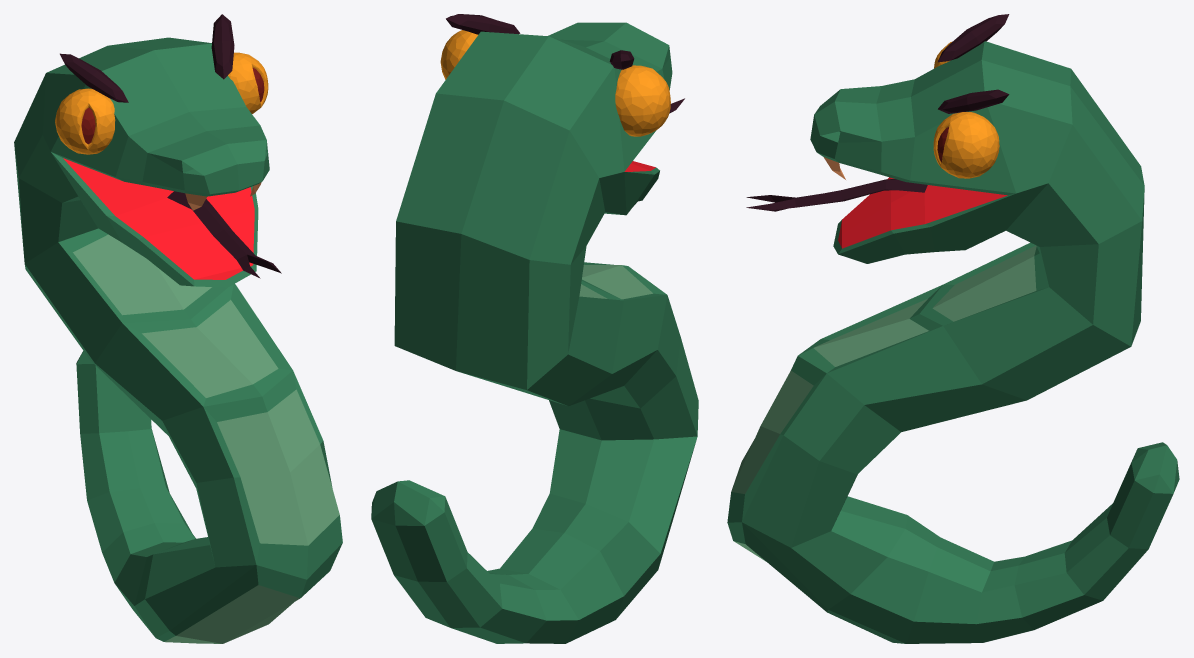
Rendered from Snake_Angry_000004.obj.
3 renders of one model, left to right at view 1: azimuth 30°, elevation 25°; view 2: azimuth 150°, elevation 25°; view 3: azimuth 270°, elevation 25°, orthographic. The views are drawn at different scales.
Parts seen in each view (by area): view 1: Snake_Cylinder; view 2: Snake_Cylinder; view 3: Snake_Cylinder.
Part boxes in pixels (<box>): Snake_Cylinder: <box>14,14,342,643</box>; Snake_Cylinder: <box>371,14,698,643</box>; Snake_Cylinder: <box>727,14,1179,643</box>.
Size of the model in its own units: 1.05 by 2.81 by 1.99.
